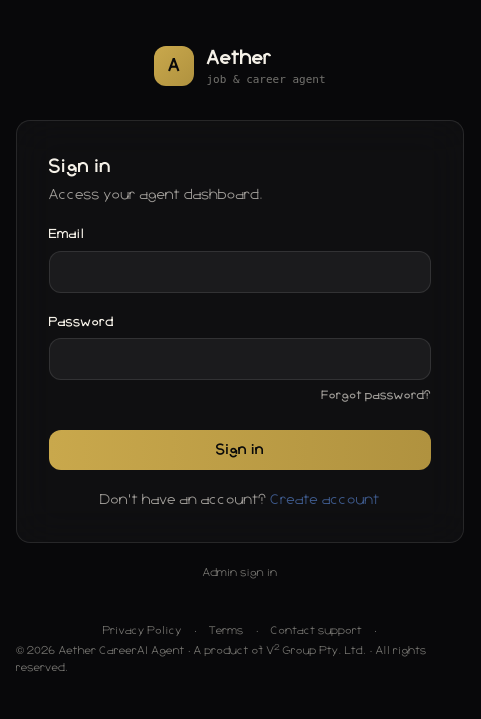
Test: LoginPage › shows an honest 429 lockout message instead of a generic failure
Type "a@example.com" into the field labelled "Email" at [240, 272], box [49, 251, 431, 293]
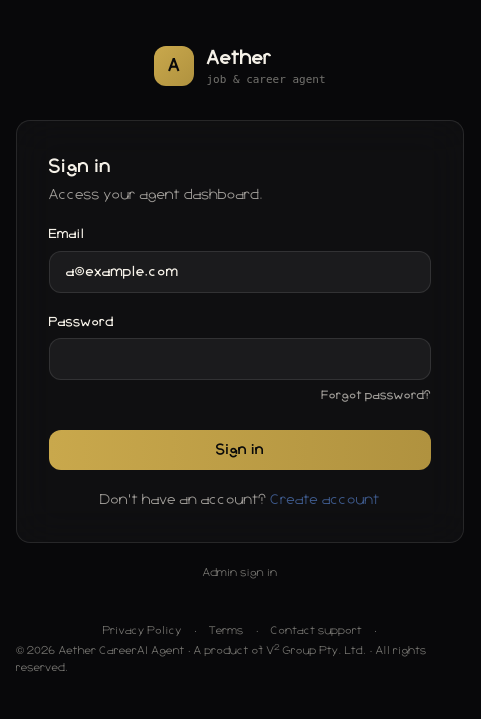
Type "wrong" into the password field labelled "Password" at [240, 359], box [49, 338, 431, 380]
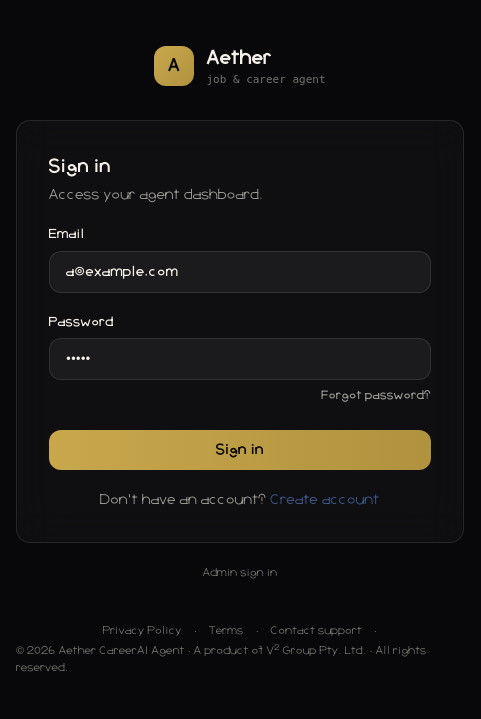
Click the button "Sign in" at [240, 450], box [49, 430, 431, 470]
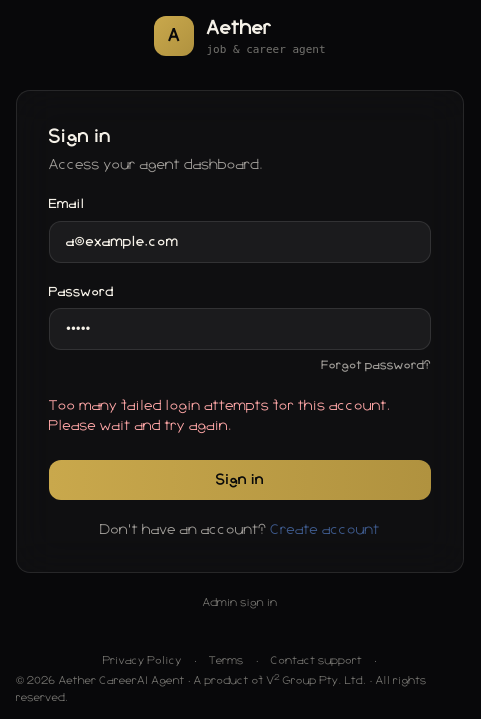
Result: the message with test id "login-error" shows "Too many failed login attempts" at [49, 399, 391, 433]
